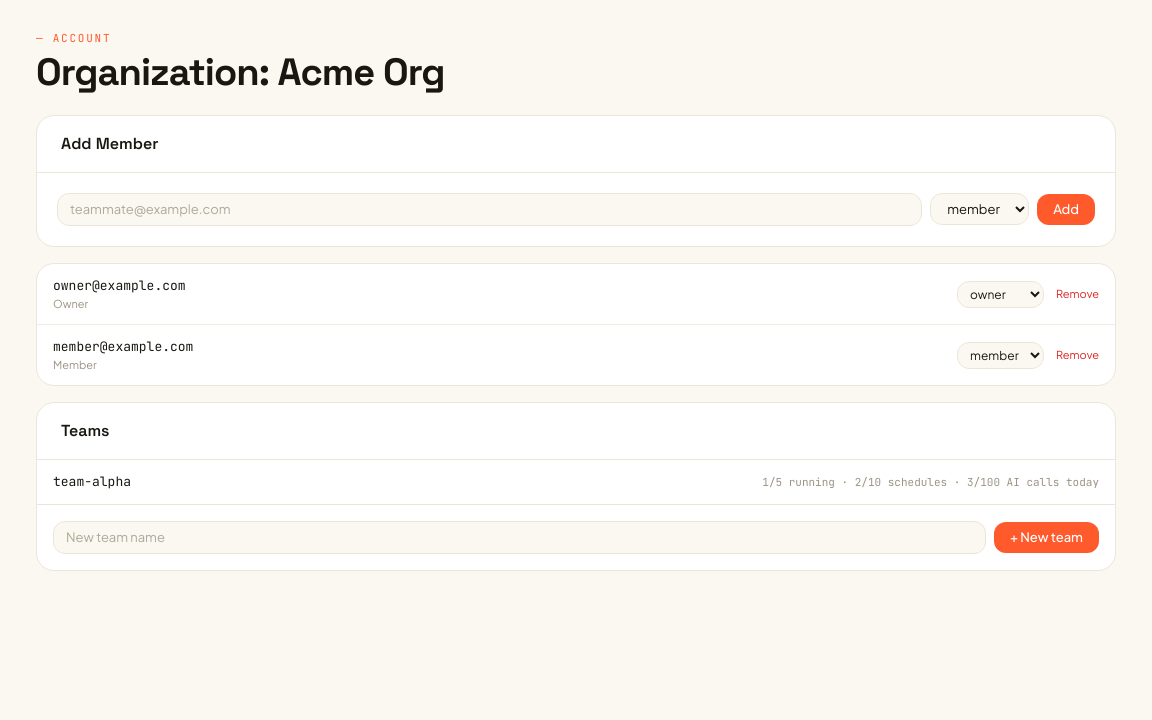
Test case: OrgPage — owner/admin › shows an error message when addOrgMember rejects
This screenshot has width=1152, height=720.
Expected: the text "owner@example.com" is shown, 53,276 -> 186,296
Type "ghost@example.com" into the field with placeholder "teammate@example.com" at x=490, y=209, box 57,192 -> 922,226
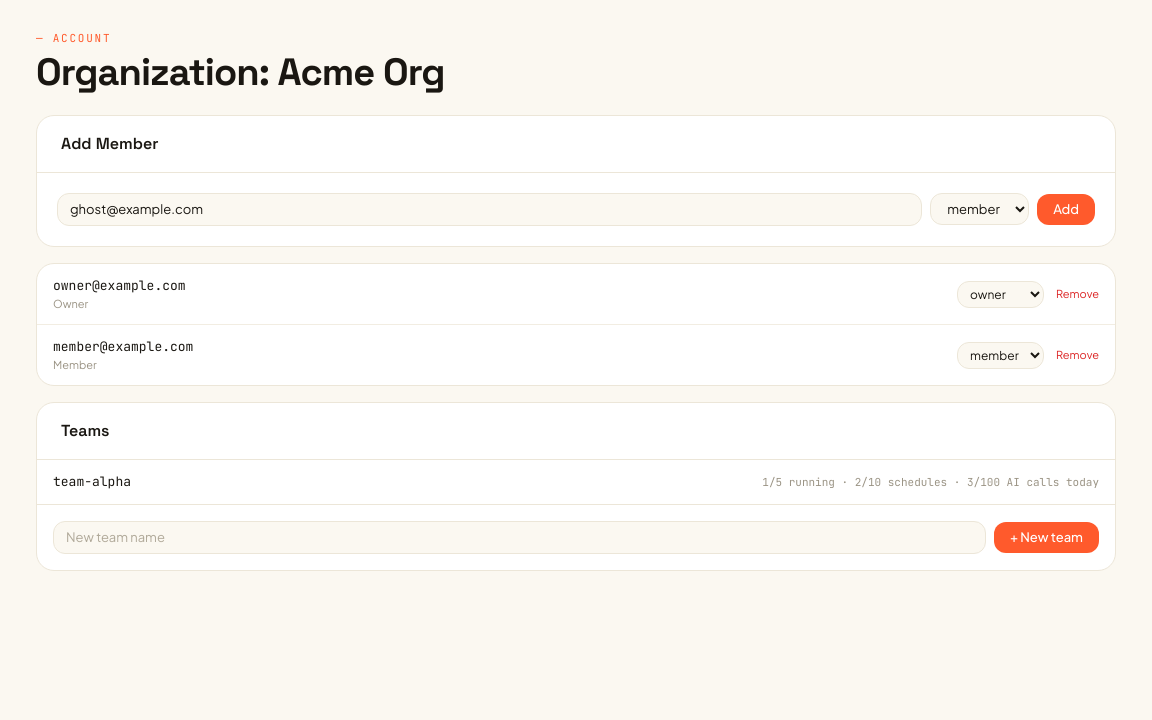
Click the button "Add" at x=1066, y=209, box 1037,194 -> 1095,225
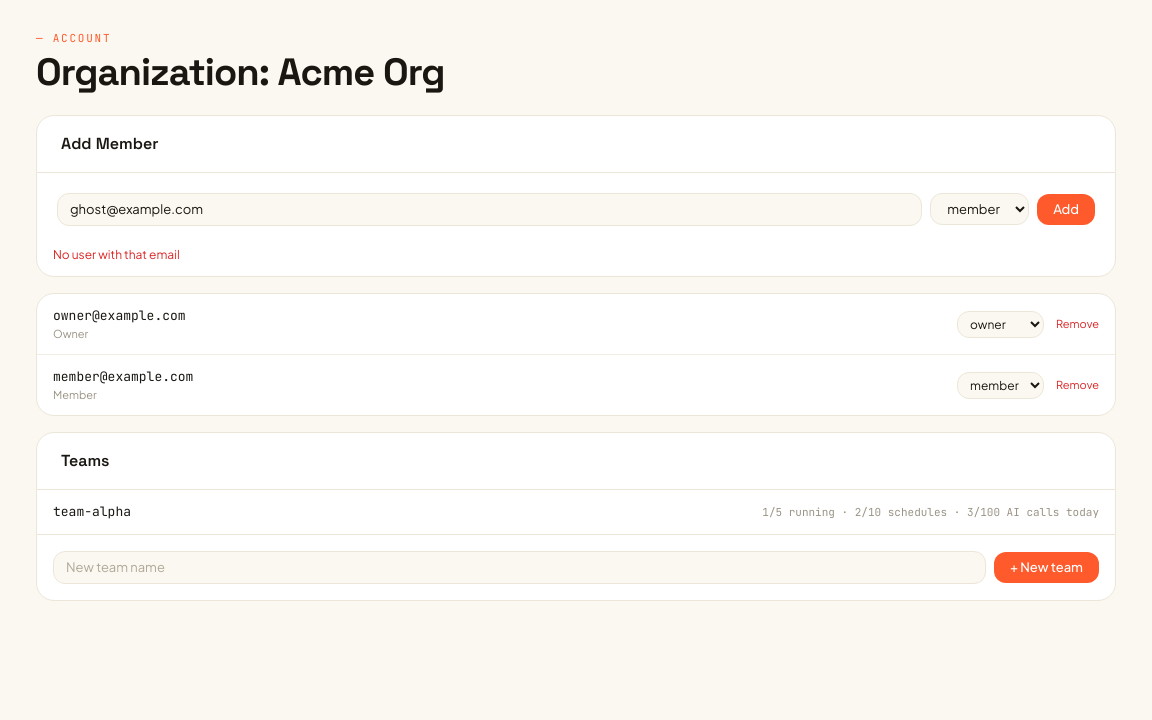
Result: the text "No user with that email" is shown at 53,247 -> 180,262
